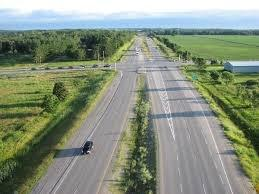road: (31, 36, 255, 193)
